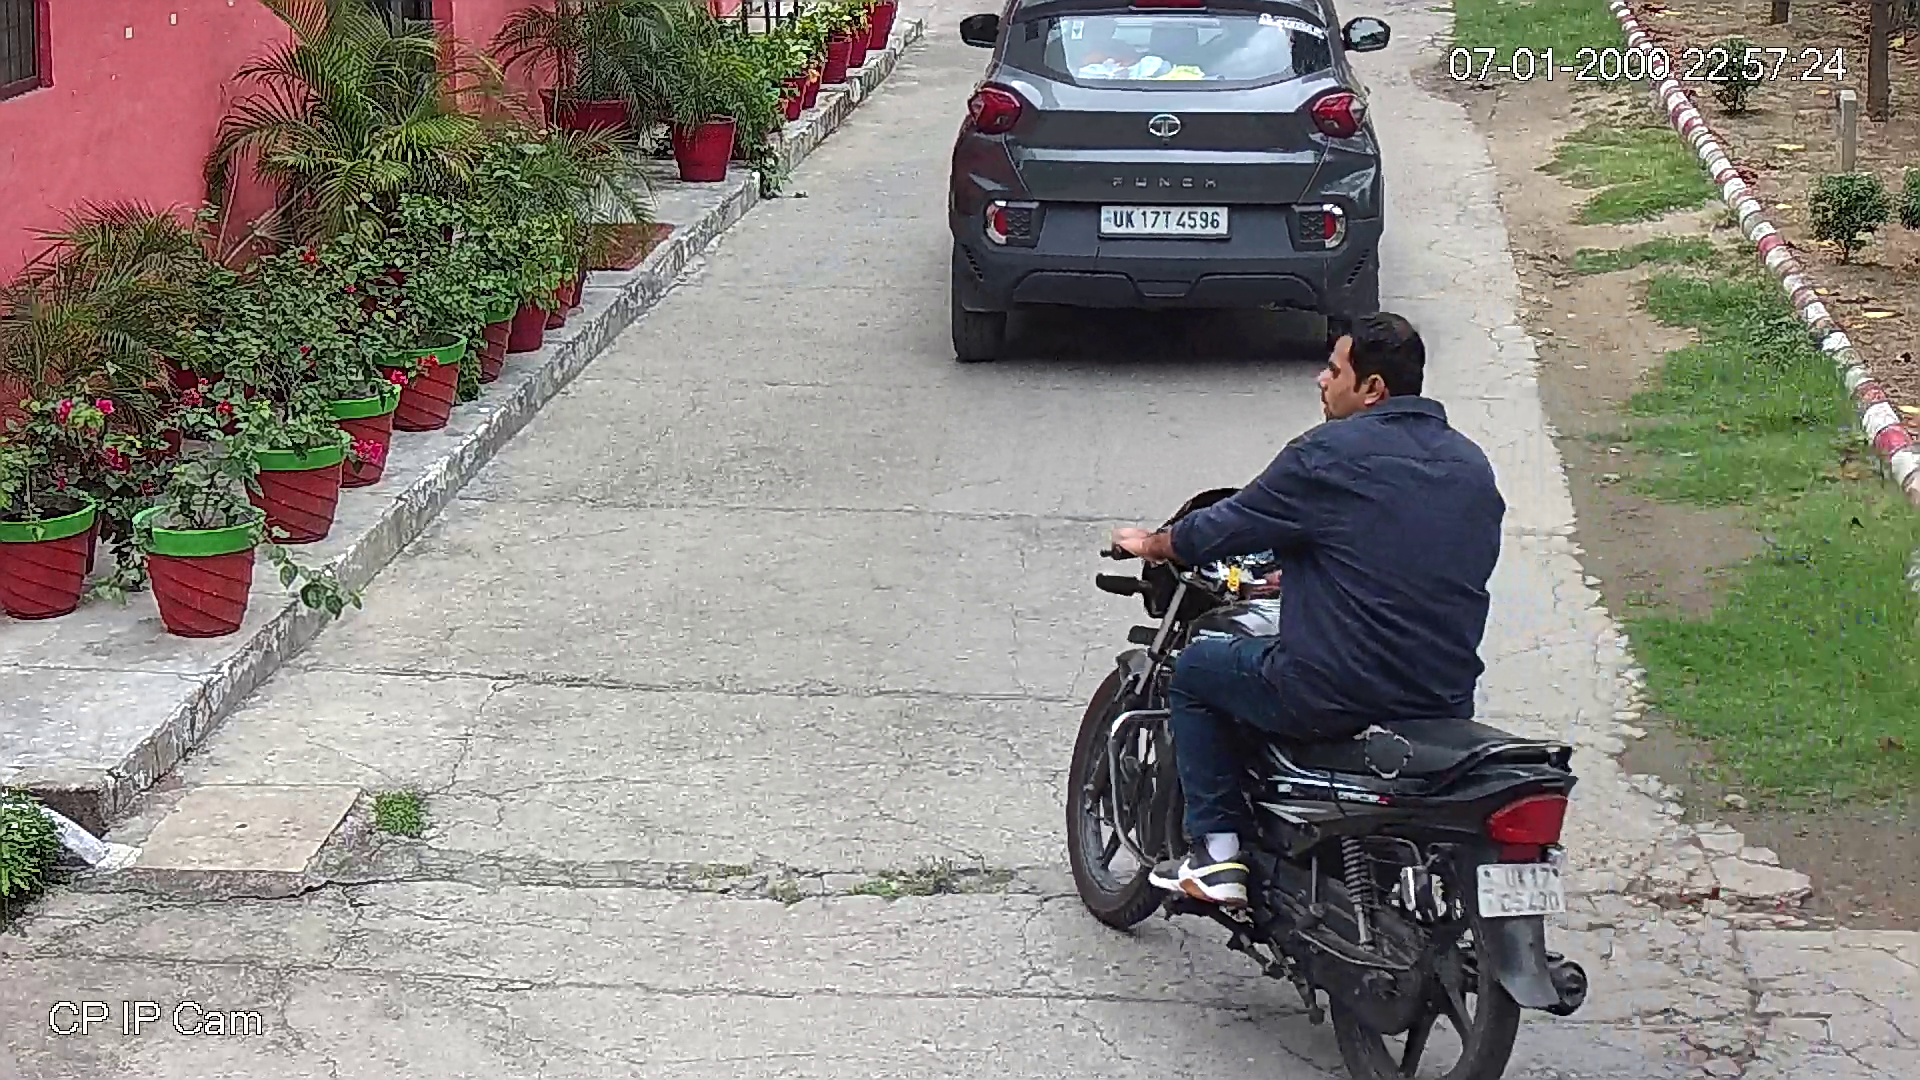plate: (1099, 205, 1230, 236)
